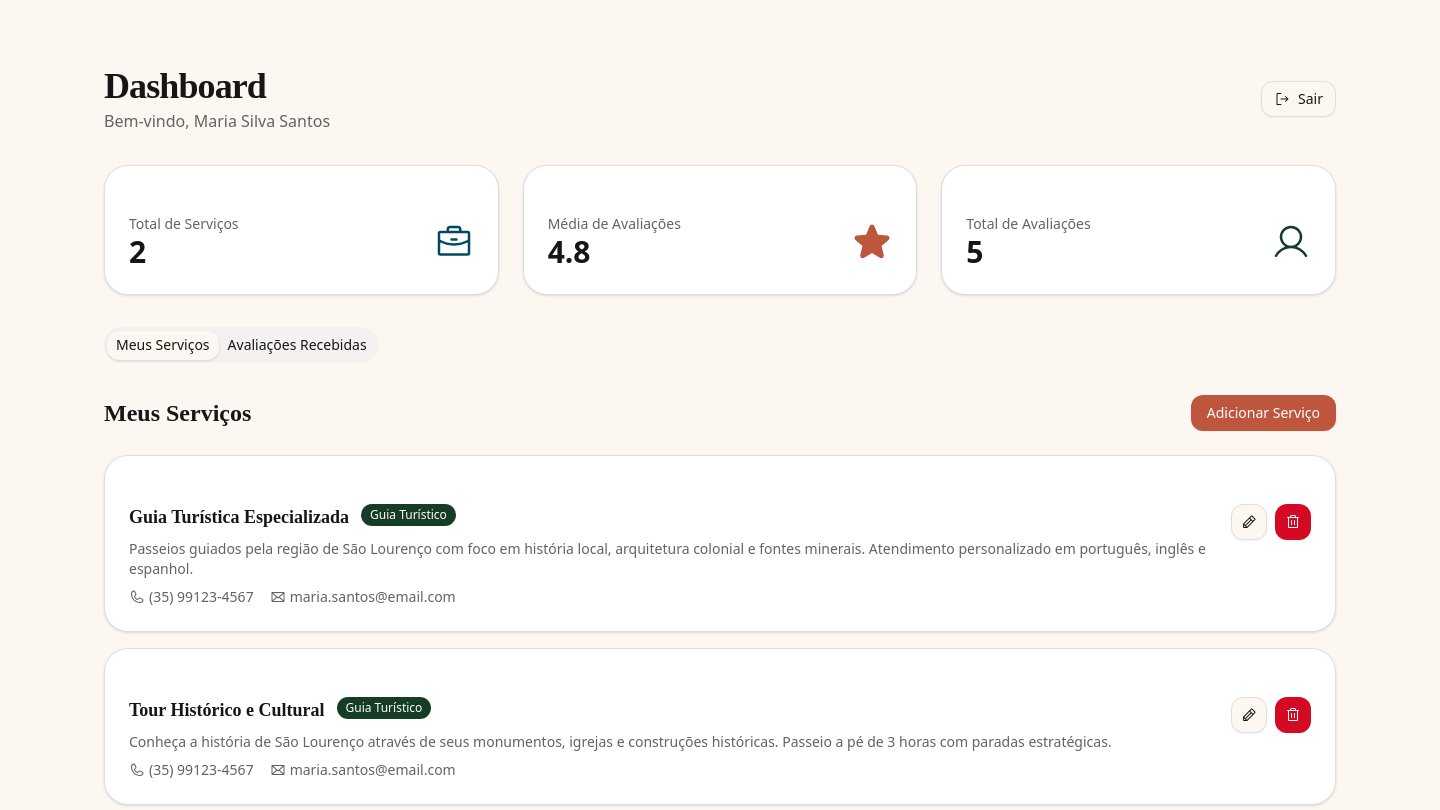
Test: DashboardPage › deletes a seed service belonging to the logged-in user and removes its card
Expected: the heading "Guia Turística Especializada" is shown, [129,504,349,531]
Click the 4th button at x=1293, y=522, box [1275,504,1311,540]
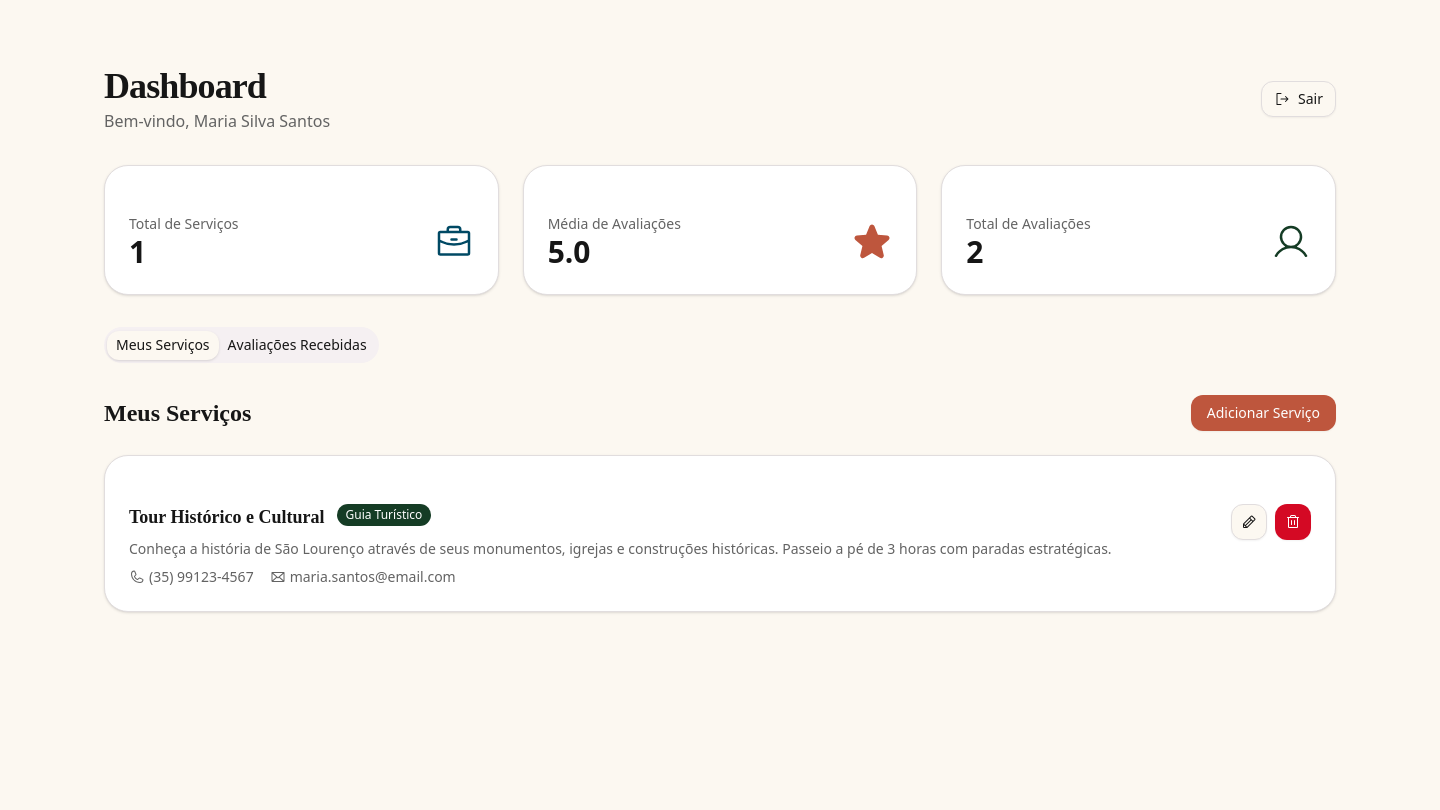
Result: the heading "Guia Turística Especializada" is gone
